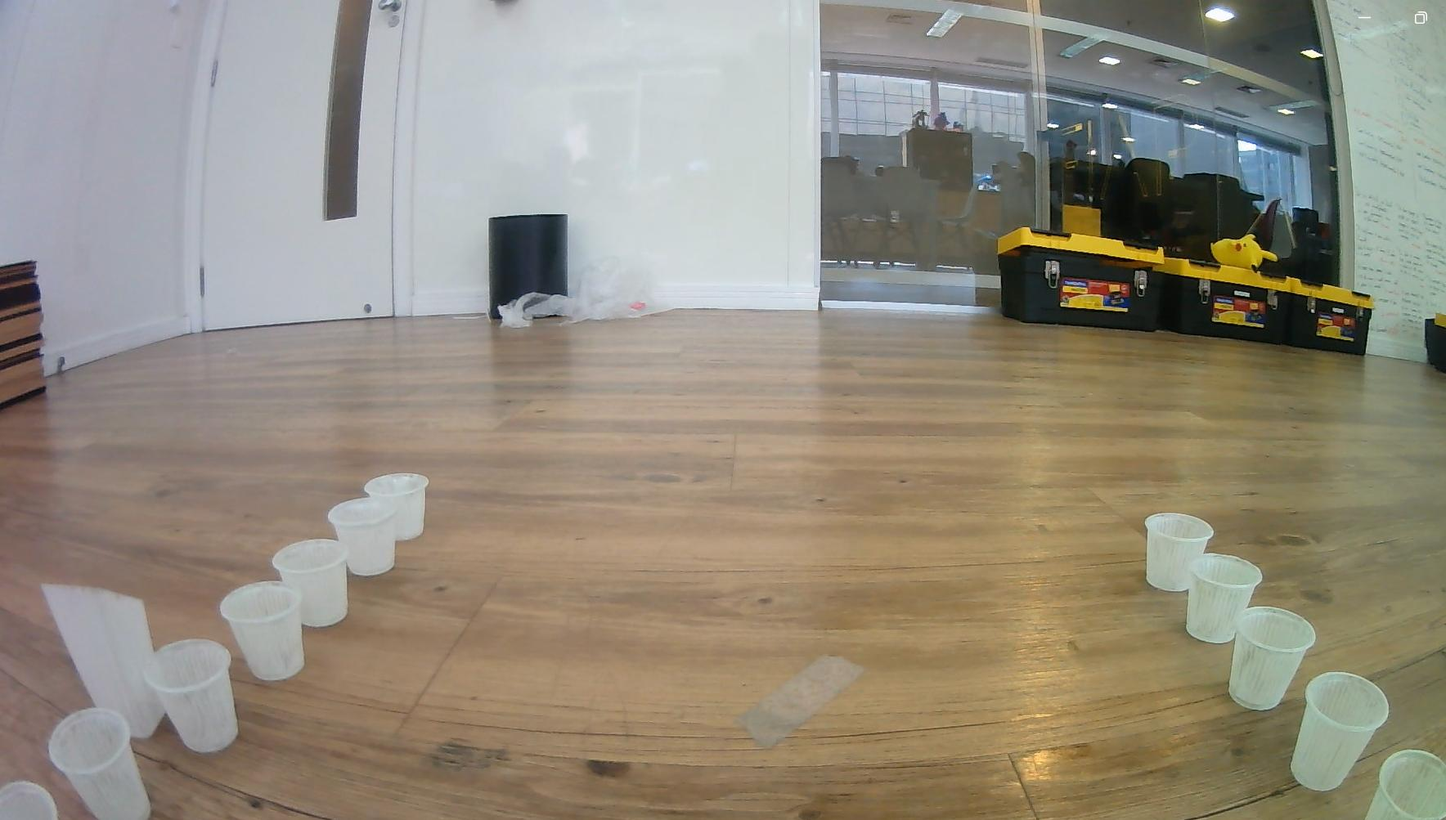erva_daninha: (42, 583, 169, 740)
planta: (1290, 670, 1390, 792), (47, 707, 152, 820), (143, 639, 239, 755), (1228, 606, 1317, 711), (218, 580, 306, 682), (1184, 553, 1264, 645), (272, 539, 350, 629), (326, 496, 399, 577), (1143, 512, 1215, 594), (1363, 749, 1446, 820), (363, 473, 429, 542), (0, 781, 60, 820)
